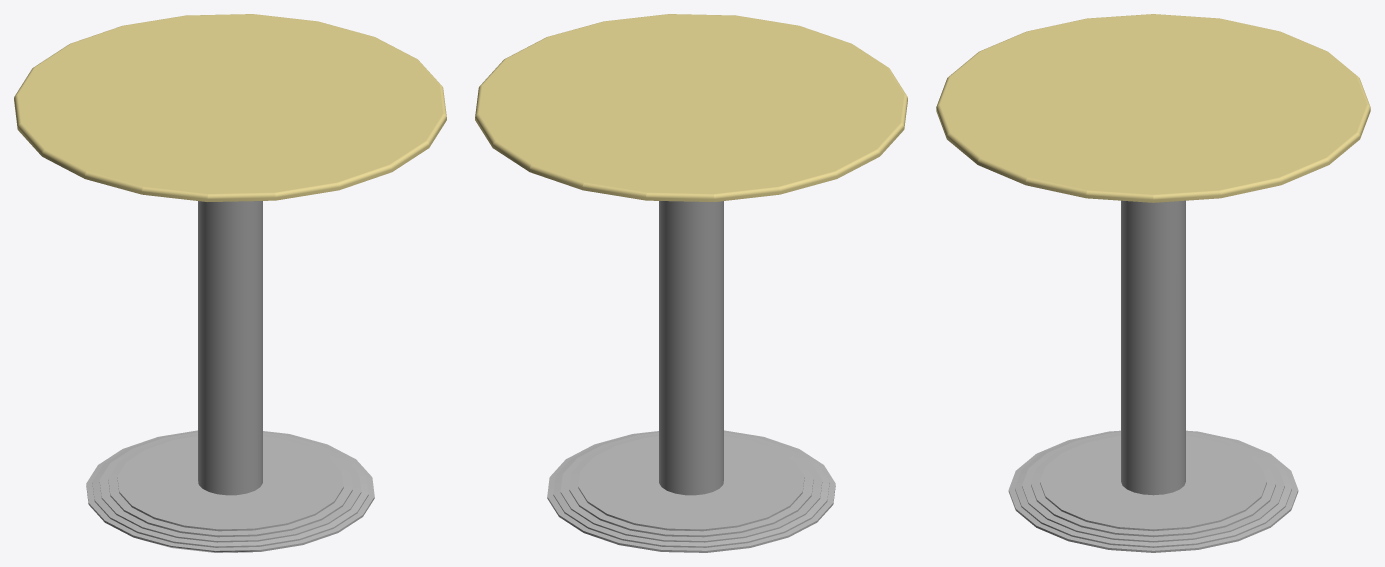
File: staantafel.fbx
3 views of the same model, side by side, from view 1: azimuth 30°, elevation 25°; view 2: azimuth 150°, elevation 25°; view 3: azimuth 270°, elevation 25° (orthographic).
Visible parts, largest first — view 1: pCylinder3, pCylinder1, pCylinder4; view 2: pCylinder3, pCylinder1, pCylinder4; view 3: pCylinder3, pCylinder1, pCylinder4.
Boxes of the visible parts, box(x1,y1,x2,y2) form: pCylinder3: box(14, 14, 446, 201); pCylinder1: box(86, 430, 374, 552); pCylinder4: box(198, 201, 262, 495); pCylinder3: box(475, 14, 907, 201); pCylinder1: box(547, 430, 835, 552); pCylinder4: box(659, 201, 723, 495); pCylinder3: box(936, 14, 1370, 202); pCylinder1: box(1008, 430, 1298, 552); pCylinder4: box(1121, 200, 1185, 495).
Bounding box in the file's own units: 12 × 11.83 × 12.
